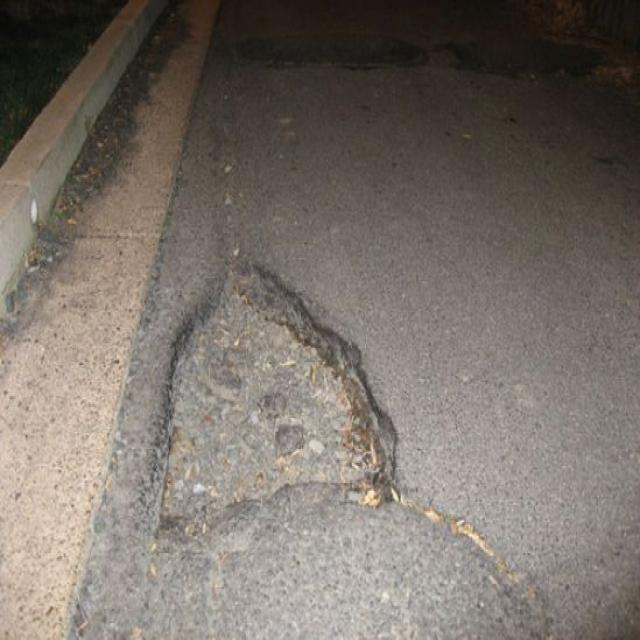pothole: (138, 244, 402, 546)
